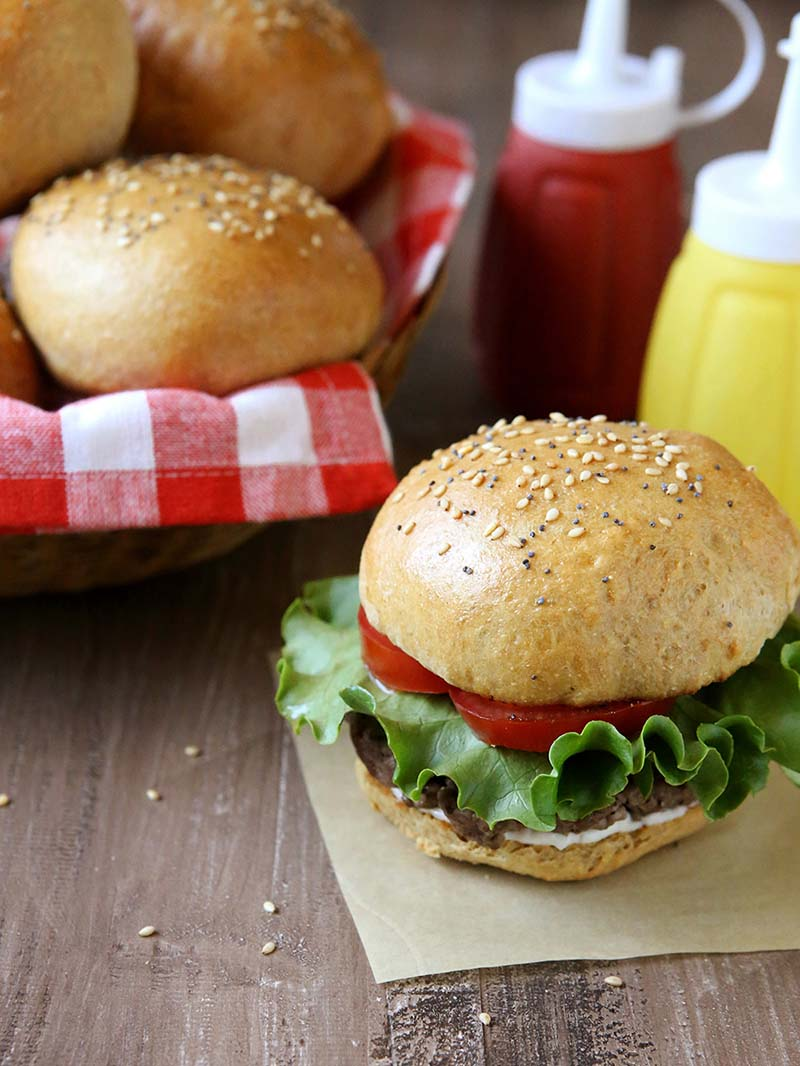hamburger_buns: (324, 408, 797, 930), (11, 149, 416, 403)
